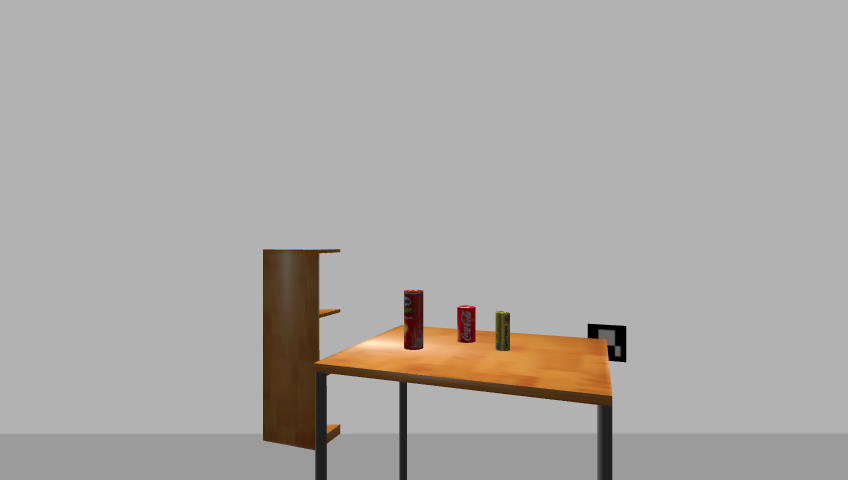aruco marker: (584, 322, 631, 364)
biscuits pack: (495, 311, 512, 353)
bookshelf: (258, 246, 346, 453)
coke can: (455, 305, 477, 344)
dinner table: (311, 322, 621, 480)
pringles can: (401, 289, 424, 351)
